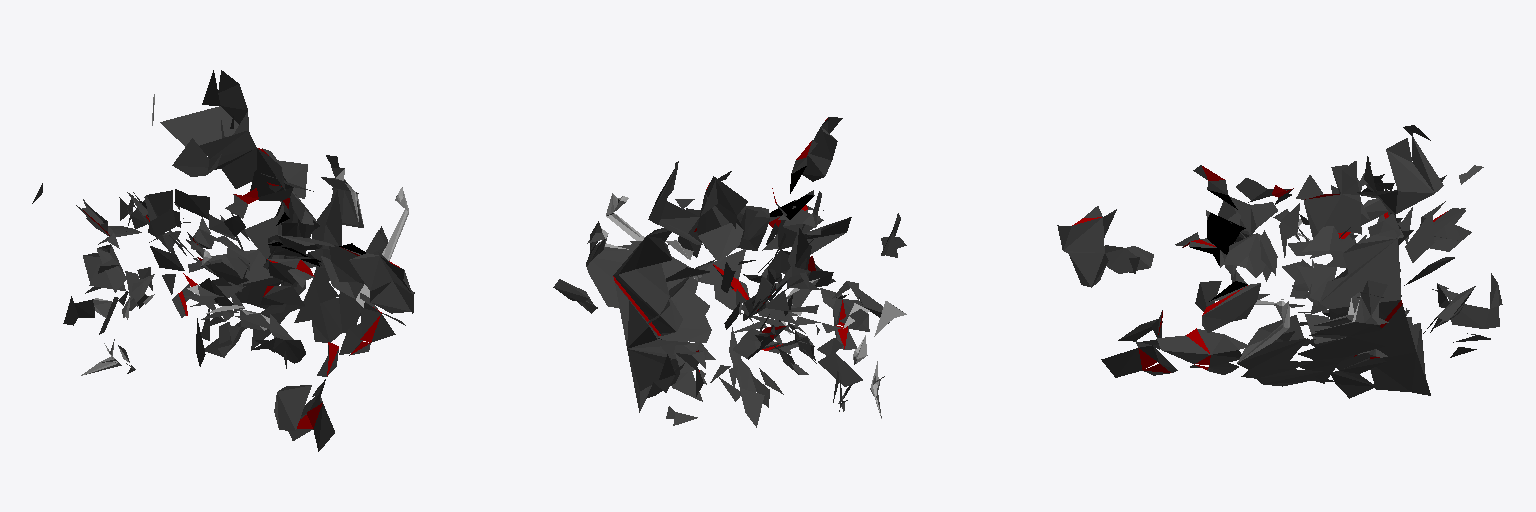
Rendered from spacecraftExplosion_000004.obj.
3 views of the same model, side by side, from view 1: azimuth 30°, elevation 25°; view 2: azimuth 150°, elevation 25°; view 3: azimuth 270°, elevation 25° (orthographic).
Parts seen in each view (by area): view 1: Cube; view 2: Cube; view 3: Cube.
Part boxes in pixels (left/top/right/bottom): Cube: left=32, top=70, right=414, bottom=451; Cube: left=553, top=117, right=906, bottom=427; Cube: left=1057, top=125, right=1502, bottom=398.
Size of the model in its own units: 8.64 by 6.96 by 10.58.